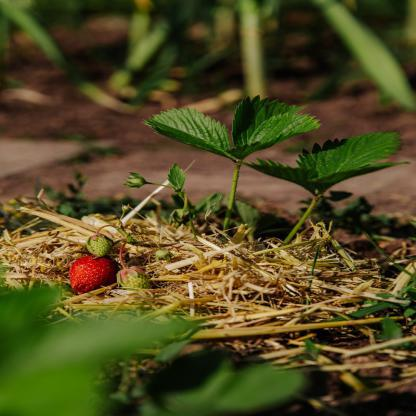strawberry: (46, 240, 133, 304)
